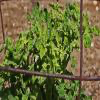Tomato leaf yellow virus: (31, 1, 42, 20), (55, 83, 67, 100), (82, 32, 92, 52), (10, 53, 23, 68), (42, 4, 51, 25), (27, 35, 37, 53), (62, 10, 69, 31), (56, 27, 62, 51), (73, 3, 80, 23), (83, 13, 90, 32), (39, 46, 47, 62), (69, 53, 76, 71), (36, 34, 43, 52), (49, 41, 56, 58), (91, 24, 100, 37), (66, 87, 75, 99), (72, 39, 80, 52), (43, 28, 48, 47), (40, 21, 44, 44), (42, 61, 51, 71), (21, 88, 28, 100), (15, 37, 21, 49), (64, 36, 69, 48), (7, 45, 14, 53), (55, 63, 62, 71)
